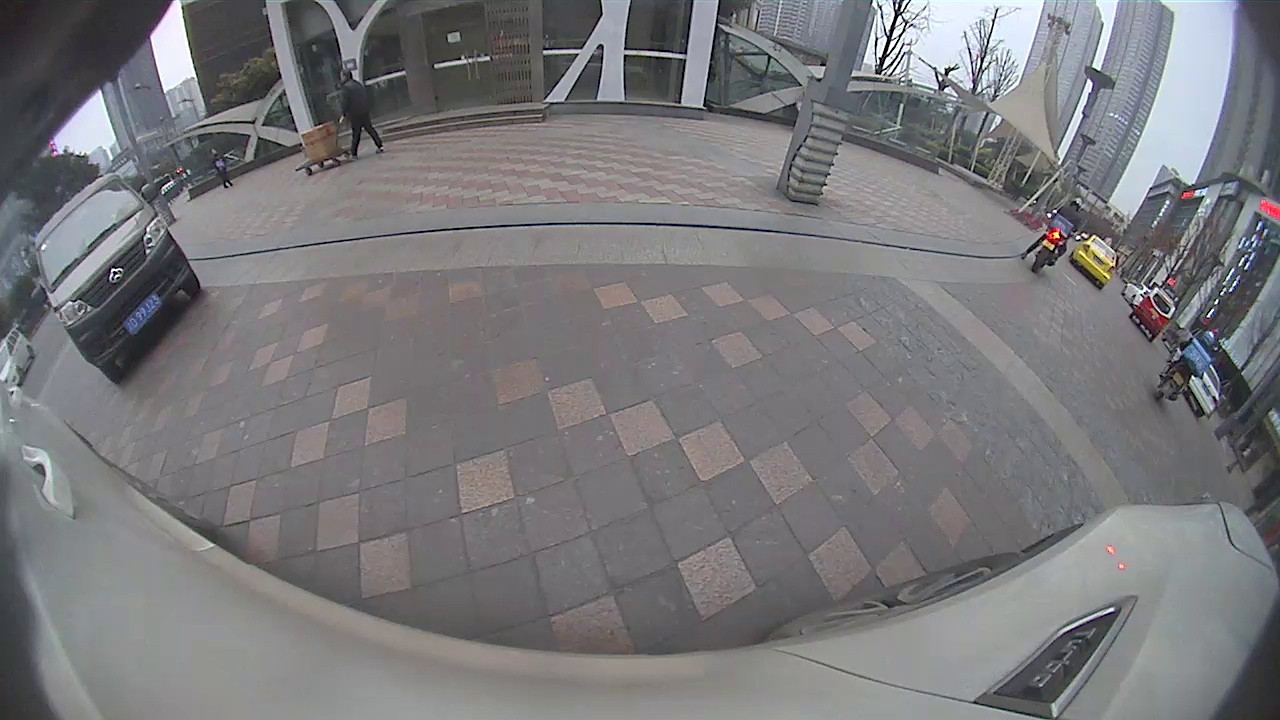car: (32, 171, 202, 383), (1070, 233, 1120, 291)
person: (341, 68, 383, 158)
rider: (1018, 197, 1083, 273), (1150, 329, 1215, 404)
